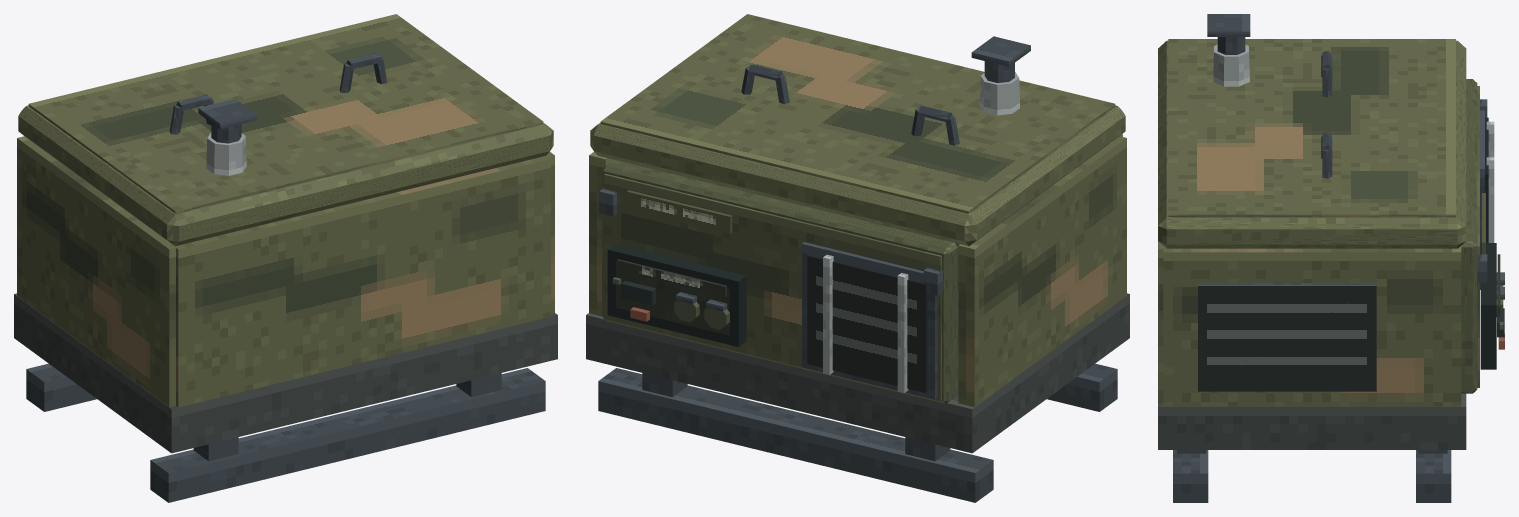
The model's file is f_military_generator.glb.
3 renders of one model, left to right at view 1: azimuth 30°, elevation 25°; view 2: azimuth 150°, elevation 25°; view 3: azimuth 270°, elevation 25°, orthographic. The views are drawn at different scales.
Visible parts, largest first — view 1: block_enclosure-back, block_camouflaged-roof-plate, block_enclosure-side (×2), block_reinforced-base, block_skid-rail (×2), block_enclosure-roof, block_skid-post (×2), block_exhaust-heat-shield, block_exhaust-rain-cap; view 2: block_camouflaged-roof-plate, block_enclosure-side (×2), block_reinforced-base, block_camouflaged-access-panel, block_skid-rail (×2), block_enclosure-roof, block_recessed-radiator-face, block_service-door, block_recessed-output-panel, block_radiator-bezel, block_radiator-vertical-guard (×2), block_service-identification (+5 smaller); view 3: block_camouflaged-roof-plate, block_enclosure-side, block_side-vent, block_reinforced-base, block_enclosure-roof, block_service-door, block_skid-rail (×2), block_recessed-output-panel, block_exhaust-heat-shield, block_exhaust-rain-cap, block_enclosure-back, block_camouflaged-access-panel (+4 smaller).
Part boxes in pixels (bbox=[...]): block_enclosure-back: bbox=[166, 155, 550, 407]; block_camouflaged-roof-plate: bbox=[28, 14, 543, 213]; block_enclosure-side (×2): bbox=[17, 136, 554, 407]; block_reinforced-base: bbox=[14, 293, 557, 453]; block_skid-rail (×2): bbox=[26, 363, 545, 502]; block_enclosure-roof: bbox=[18, 105, 553, 246]; block_skid-post (×2): bbox=[193, 373, 501, 461]; block_exhaust-heat-shield: bbox=[206, 132, 246, 175]; block_exhaust-rain-cap: bbox=[198, 98, 257, 129]; block_camouflaged-roof-plate: bbox=[600, 14, 1115, 213]; block_enclosure-side (×2): bbox=[589, 136, 1126, 407]; block_reinforced-base: bbox=[586, 265, 1129, 453]; block_camouflaged-access-panel: bbox=[604, 173, 941, 400]; block_skid-rail (×2): bbox=[598, 363, 1117, 502]; block_enclosure-roof: bbox=[590, 105, 1125, 246]; block_recessed-radiator-face: bbox=[807, 254, 927, 392]; block_service-door: bbox=[602, 159, 957, 403]; block_recessed-output-panel: bbox=[607, 244, 746, 346]; block_radiator-bezel: bbox=[802, 242, 937, 399]; block_radiator-vertical-guard (×2): bbox=[823, 254, 908, 392]; block_service-identification: bbox=[626, 190, 732, 233]; block_camouflaged-roof-plate: bbox=[1168, 39, 1455, 217]; block_enclosure-side: bbox=[1163, 246, 1461, 406]; block_side-vent: bbox=[1198, 283, 1376, 391]; block_reinforced-base: bbox=[1158, 241, 1466, 449]; block_enclosure-roof: bbox=[1158, 40, 1466, 248]; block_service-door: bbox=[1461, 79, 1477, 393]; block_skid-rail (×2): bbox=[1173, 450, 1451, 502]; block_recessed-output-panel: bbox=[1480, 243, 1496, 369]; block_exhaust-heat-shield: bbox=[1213, 44, 1249, 86]; block_exhaust-rain-cap: bbox=[1207, 14, 1250, 36]; block_enclosure-back: bbox=[1158, 241, 1182, 403]; block_camouflaged-access-panel: bbox=[1477, 86, 1479, 387].
Bounding box in the file's own units: 0.98 × 0.832 × 0.765.
Materials: 1 (1 with a texture image).
